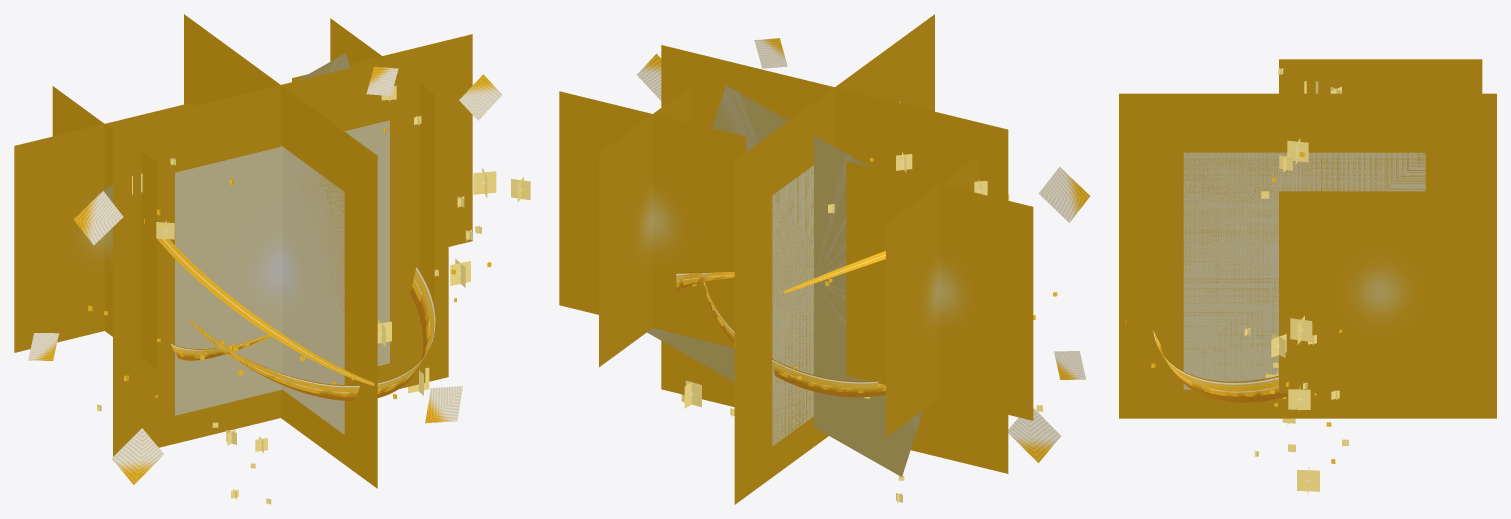
Rendered from GoldenBalloonAura.glb.
The picture shows the model from 3 angles, left to right: view 1: azimuth 30°, elevation 25°; view 2: azimuth 150°, elevation 25°; view 3: azimuth 270°, elevation 25°; orthographic projection. The views are drawn at different scales.
Parts seen in each view (by area): view 1: GoldenAuraGold, GoldenAura, FloatingFeathers, EnergyTrailsGlow, Sparkles, EnergyTrailsGold, EnergyTrails, LightRays, Stars; view 2: GoldenAuraGold, LightRays, GoldenAura, FloatingFeathers, EnergyTrailsGlow, EnergyTrailsGold, Sparkles; view 3: GoldenAuraGold, GoldenAura, Sparkles, EnergyTrailsGlow, EnergyTrails, Stars.
Part boxes in pixels (bbox=[...]): GoldenAuraGold: bbox=[14, 14, 472, 488]; GoldenAura: bbox=[175, 120, 389, 434]; FloatingFeathers: bbox=[28, 66, 502, 484]; EnergyTrailsGlow: bbox=[170, 265, 436, 400]; Sparkles: bbox=[132, 85, 530, 453]; EnergyTrailsGold: bbox=[157, 238, 380, 387]; EnergyTrails: bbox=[190, 273, 432, 397]; LightRays: bbox=[99, 53, 350, 235]; Stars: bbox=[97, 115, 481, 504]; GoldenAuraGold: bbox=[559, 14, 1033, 504]; LightRays: bbox=[647, 85, 922, 476]; GoldenAura: bbox=[772, 101, 900, 446]; FloatingFeathers: bbox=[637, 38, 1090, 462]; EnergyTrailsGlow: bbox=[676, 272, 885, 397]; EnergyTrailsGold: bbox=[703, 251, 885, 393]; Sparkles: bbox=[681, 151, 1009, 408]; GoldenAuraGold: bbox=[1119, 59, 1496, 418]; GoldenAura: bbox=[1183, 152, 1425, 389]; Sparkles: bbox=[1265, 81, 1341, 494]; EnergyTrailsGlow: bbox=[1153, 330, 1288, 402]; EnergyTrails: bbox=[1155, 334, 1278, 396]; Stars: bbox=[1244, 68, 1348, 456].
Size of the model in its own units: 5.58 by 4.54 by 3.9.
10 materials, 7 textured.
